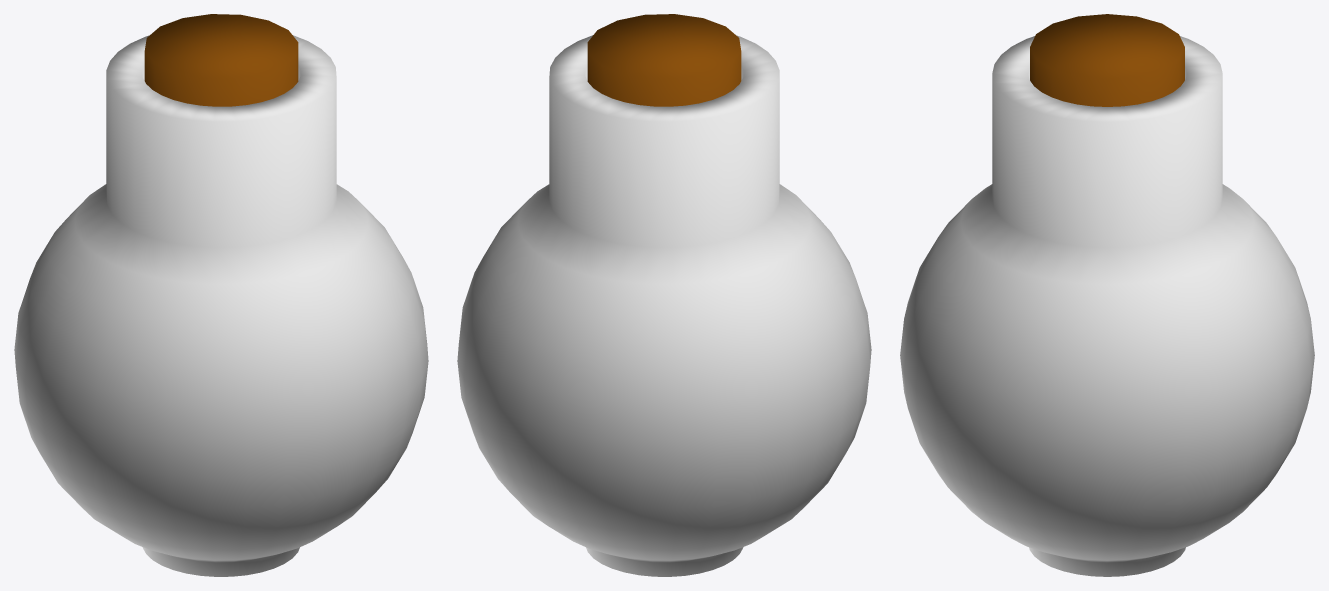
File: Potion.fbx
3 views of the same model, side by side, from view 1: azimuth 30°, elevation 25°; view 2: azimuth 150°, elevation 25°; view 3: azimuth 270°, elevation 25° (orthographic).
Visible parts, largest first — view 1: Sphere.001; view 2: Sphere.001; view 3: Sphere.001.
Part boxes in pixels (x1=…): Sphere.001: x1=14, y1=14, x2=428, y2=576; Sphere.001: x1=457, y1=14, x2=871, y2=576; Sphere.001: x1=900, y1=14, x2=1314, y2=576.
Size of the model in its own units: 180 by 238 by 180.
